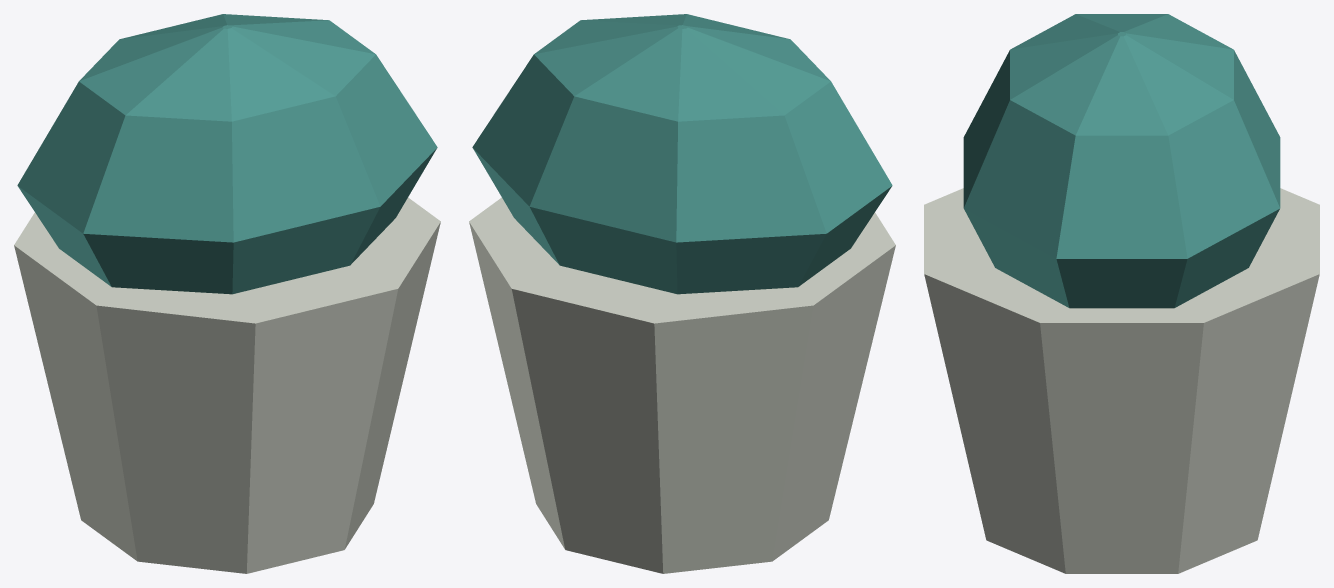
The model's file is Interior_Planter.glb.
The picture shows the model from 3 angles, left to right: view 1: azimuth 30°, elevation 25°; view 2: azimuth 150°, elevation 25°; view 3: azimuth 270°, elevation 25°; orthographic projection.
Visible parts, largest first — view 1: Interior_Planter; view 2: Interior_Planter; view 3: Interior_Planter.
Part boxes in pixels (<box>): Interior_Planter: <box>14,14,440,573</box>; Interior_Planter: <box>469,14,895,573</box>; Interior_Planter: <box>924,14,1319,573</box>.
Size of the model in its own units: 0.6652 by 0.87 by 0.6467.
